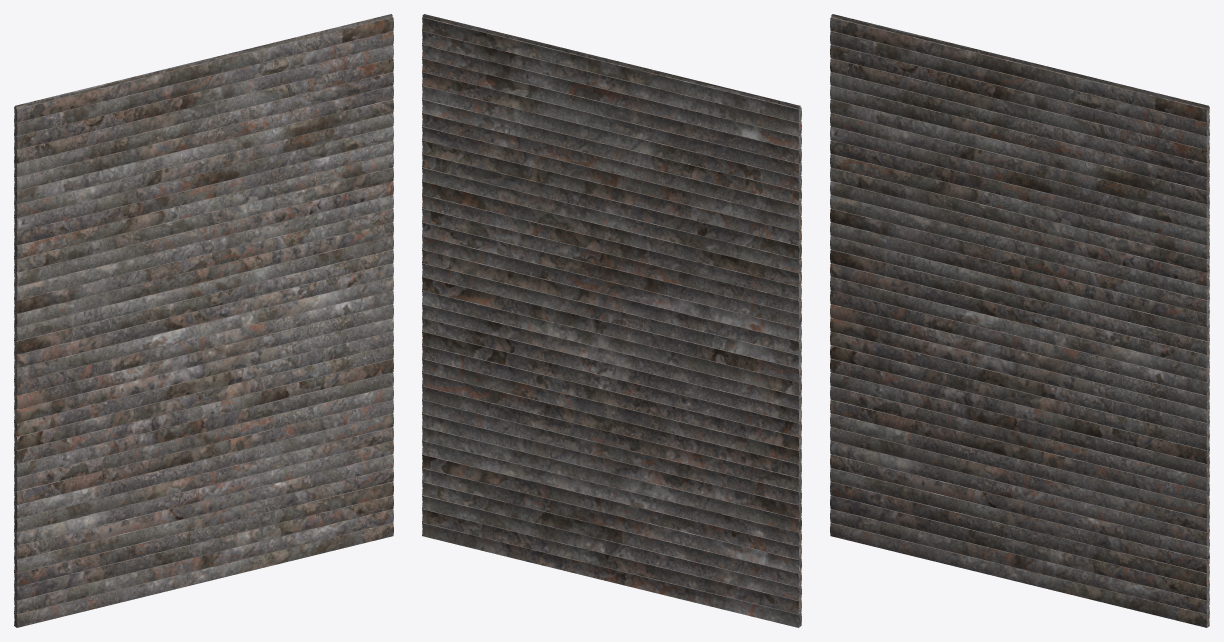
The model's file is shutter_damaged.fbx.
3 renders of one model, left to right at view 1: azimuth 30°, elevation 25°; view 2: azimuth 150°, elevation 25°; view 3: azimuth 330°, elevation 25°, orthographic.
Parts seen in each view (by area): view 1: Shutters; view 2: Shutters; view 3: Shutters.
Boxes of the visible parts, box(x1,y1,x2,y2) form: Shutters: box(14, 14, 393, 627); Shutters: box(422, 14, 801, 627); Shutters: box(830, 14, 1209, 627).
Bounding box in the file's own units: 300 × 396 × 4.7.
1 material, 1 textured.
